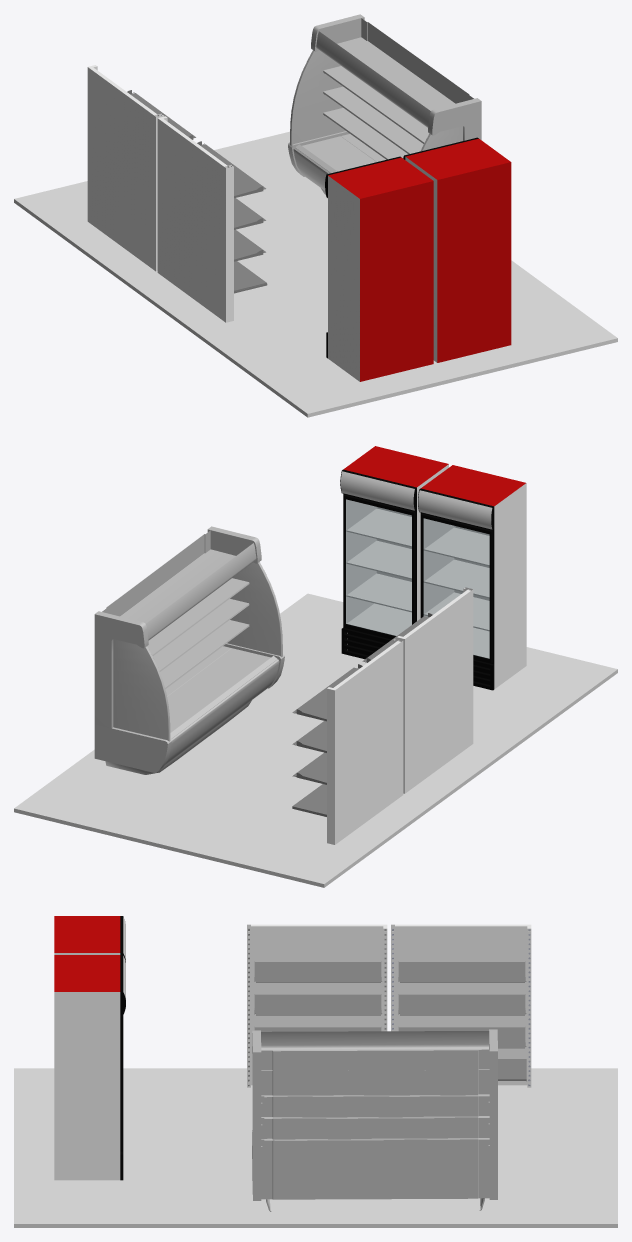
The model's file is DigitalTwin-V1.glb.
The picture shows the model from 3 angles, top to bottom: view 1: azimuth 30°, elevation 25°; view 2: azimuth 150°, elevation 25°; view 3: azimuth 270°, elevation 25°; orthographic projection. The views are drawn at different scales.
Visible parts, largest first — view 1: aChao, aGeladeira02, aDisplay, aGeladeira01, Fundo, Fundo.001, Bandeja_01, Bandeja_04, Bandeja_03, Bandeja_02; view 2: aChao, aDisplay, aGeladeira02, aGeladeira01, Fundo.001, Fundo, Bandeja_01.001, Bandeja_04.001, Bandeja_02.001, Bandeja_03.001; view 3: aChao, aDisplay, aGeladeira01, Fundo.001, Fundo, aGeladeira02, Bandeja_02.001, Bandeja_02, Bandeja_01.001, Bandeja_01, Bandeja_03.001, Bandeja_04.001 (+1 smaller).
Part boxes in pixels (bbox=[...]): aChao: bbox=[14, 131, 617, 417]; aGeladeira02: bbox=[325, 156, 433, 381]; aDisplay: bbox=[288, 14, 481, 194]; aGeladeira01: bbox=[403, 137, 511, 362]; Fundo: bbox=[157, 116, 233, 322]; Fundo.001: bbox=[87, 65, 163, 271]; Bandeja_01: bbox=[197, 141, 265, 198]; Bandeja_04: bbox=[234, 261, 267, 293]; Bandeja_03: bbox=[234, 229, 265, 261]; Bandeja_02: bbox=[234, 198, 265, 229]; aChao: bbox=[14, 593, 617, 887]; aDisplay: bbox=[94, 526, 284, 774]; aGeladeira02: bbox=[418, 465, 526, 690]; aGeladeira01: bbox=[340, 446, 448, 659]; Fundo.001: bbox=[327, 638, 403, 844]; Fundo: bbox=[397, 587, 473, 793]; Bandeja_01.001: bbox=[292, 664, 362, 721]; Bandeja_04.001: bbox=[292, 784, 326, 816]; Bandeja_02.001: bbox=[292, 721, 326, 752]; Bandeja_03.001: bbox=[292, 752, 326, 784]; aChao: bbox=[14, 1068, 617, 1227]; aDisplay: bbox=[252, 1029, 497, 1211]; aGeladeira01: bbox=[54, 955, 125, 1180]; Fundo.001: bbox=[391, 924, 531, 1087]; Fundo: bbox=[247, 924, 387, 1087]; aGeladeira02: bbox=[54, 916, 125, 962]; Bandeja_02.001: bbox=[398, 994, 526, 1015]; Bandeja_02: bbox=[254, 994, 381, 1015]; Bandeja_01.001: bbox=[398, 961, 526, 982]; Bandeja_01: bbox=[254, 961, 381, 982]; Bandeja_03.001: bbox=[398, 1027, 526, 1048]; Bandeja_04.001: bbox=[498, 1059, 526, 1081].
Bounding box in the file's own units: 4.09 × 2.36 × 6.71.
